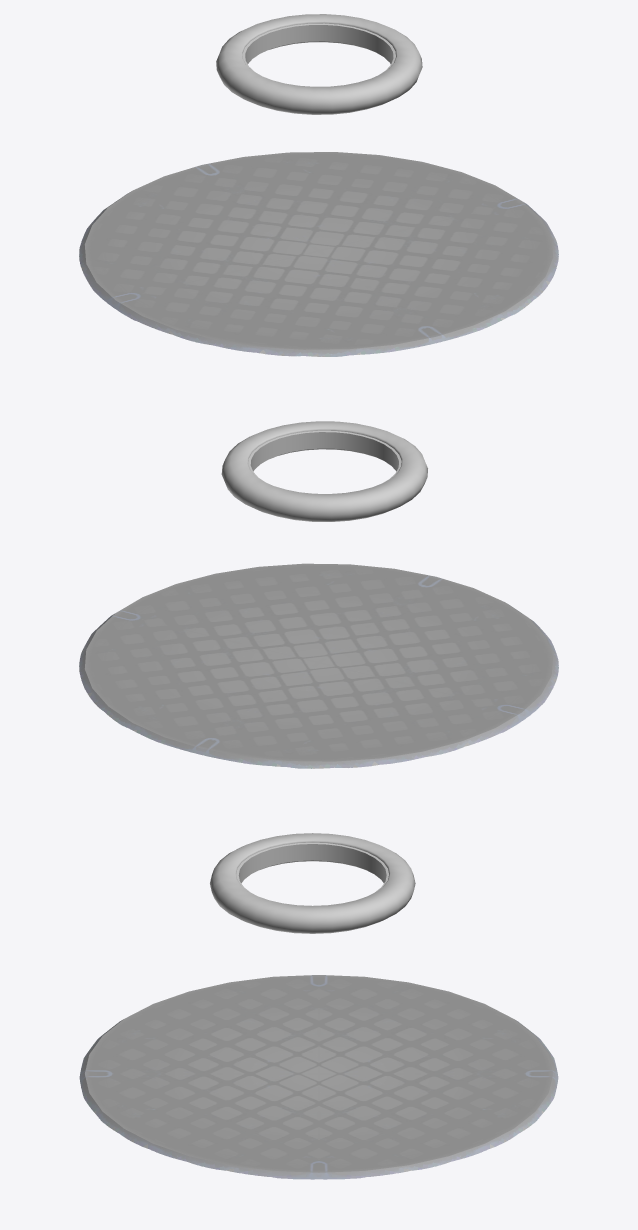
File: pref_TPC_v2_NeutralScoreArea03_winter_purple_frozen_lv3.fbx
The picture shows the model from 3 angles, top to bottom: view 1: azimuth 30°, elevation 25°; view 2: azimuth 150°, elevation 25°; view 3: azimuth 270°, elevation 25°; orthographic projection.
Parts seen in each view (by area): view 1: sm_prop_platform06a_lv3, sm_prop_platform06b_lv3; view 2: sm_prop_platform06a_lv3, sm_prop_platform06b_lv3; view 3: sm_prop_platform06a_lv3, sm_prop_platform06b_lv3.
Boxes of the visible parts, x1,y1,x2,y2 form: sm_prop_platform06a_lv3: (79,152,558,356); sm_prop_platform06b_lv3: (216,14,422,114); sm_prop_platform06a_lv3: (79,563,558,768); sm_prop_platform06b_lv3: (221,421,427,521); sm_prop_platform06a_lv3: (79,975,558,1179); sm_prop_platform06b_lv3: (210,833,415,933).
Size of the model in its own units: 7.46 by 2.87 by 7.46.
